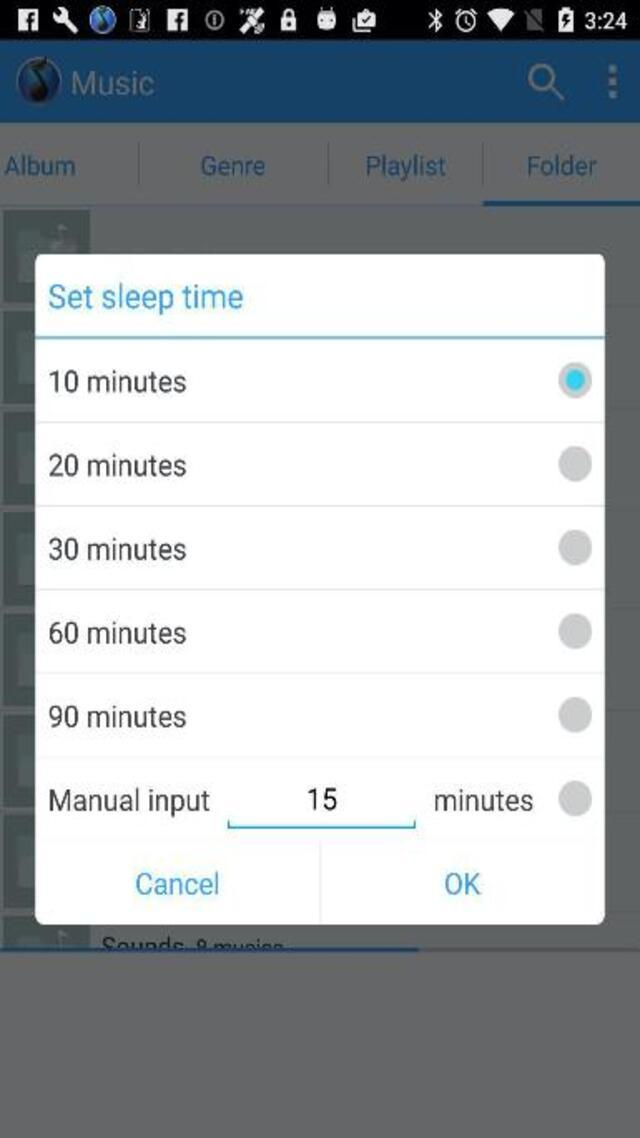CheckedTextView: (50, 528, 592, 564), (50, 780, 592, 816), (50, 364, 592, 398), (50, 446, 592, 480), (50, 614, 592, 648), (50, 698, 592, 732)
Icon: (528, 62, 566, 102), (610, 64, 618, 100)
Image: (14, 57, 62, 107)
Text: (50, 282, 243, 315), (49, 788, 210, 816), (50, 369, 186, 392), (132, 866, 222, 900), (50, 537, 186, 558), (50, 621, 186, 642), (50, 706, 186, 727), (50, 454, 186, 474), (366, 154, 444, 180), (73, 71, 154, 96), (438, 866, 486, 899), (5, 155, 75, 176), (528, 156, 596, 176), (201, 156, 264, 176)
TextButton: (36, 840, 320, 924), (320, 841, 604, 923)
